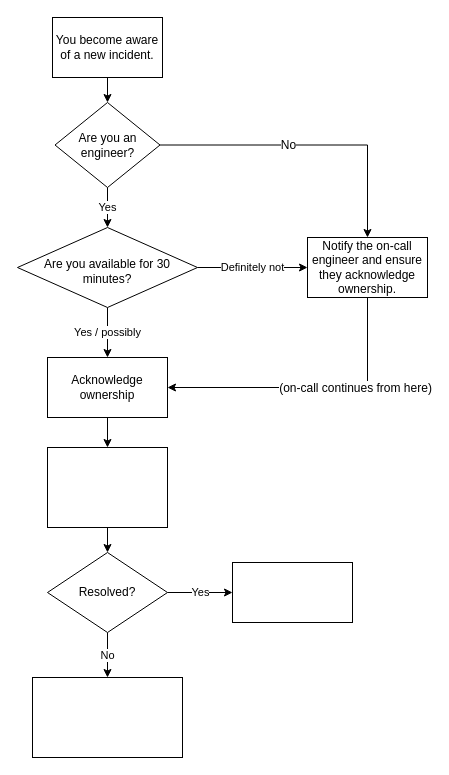
This 449x775 diagram has some shape labels left out. The centre of each missing label's shape, as x and y in pixels:
"Attempt to rollback the site and/or revert broken commits." goes at [107,487].
"Determine most logical resolution owner and ensure they acknowledge ownership." goes at [107,717].
"Determine the most logical owner for the post mortem." goes at [292,592].
